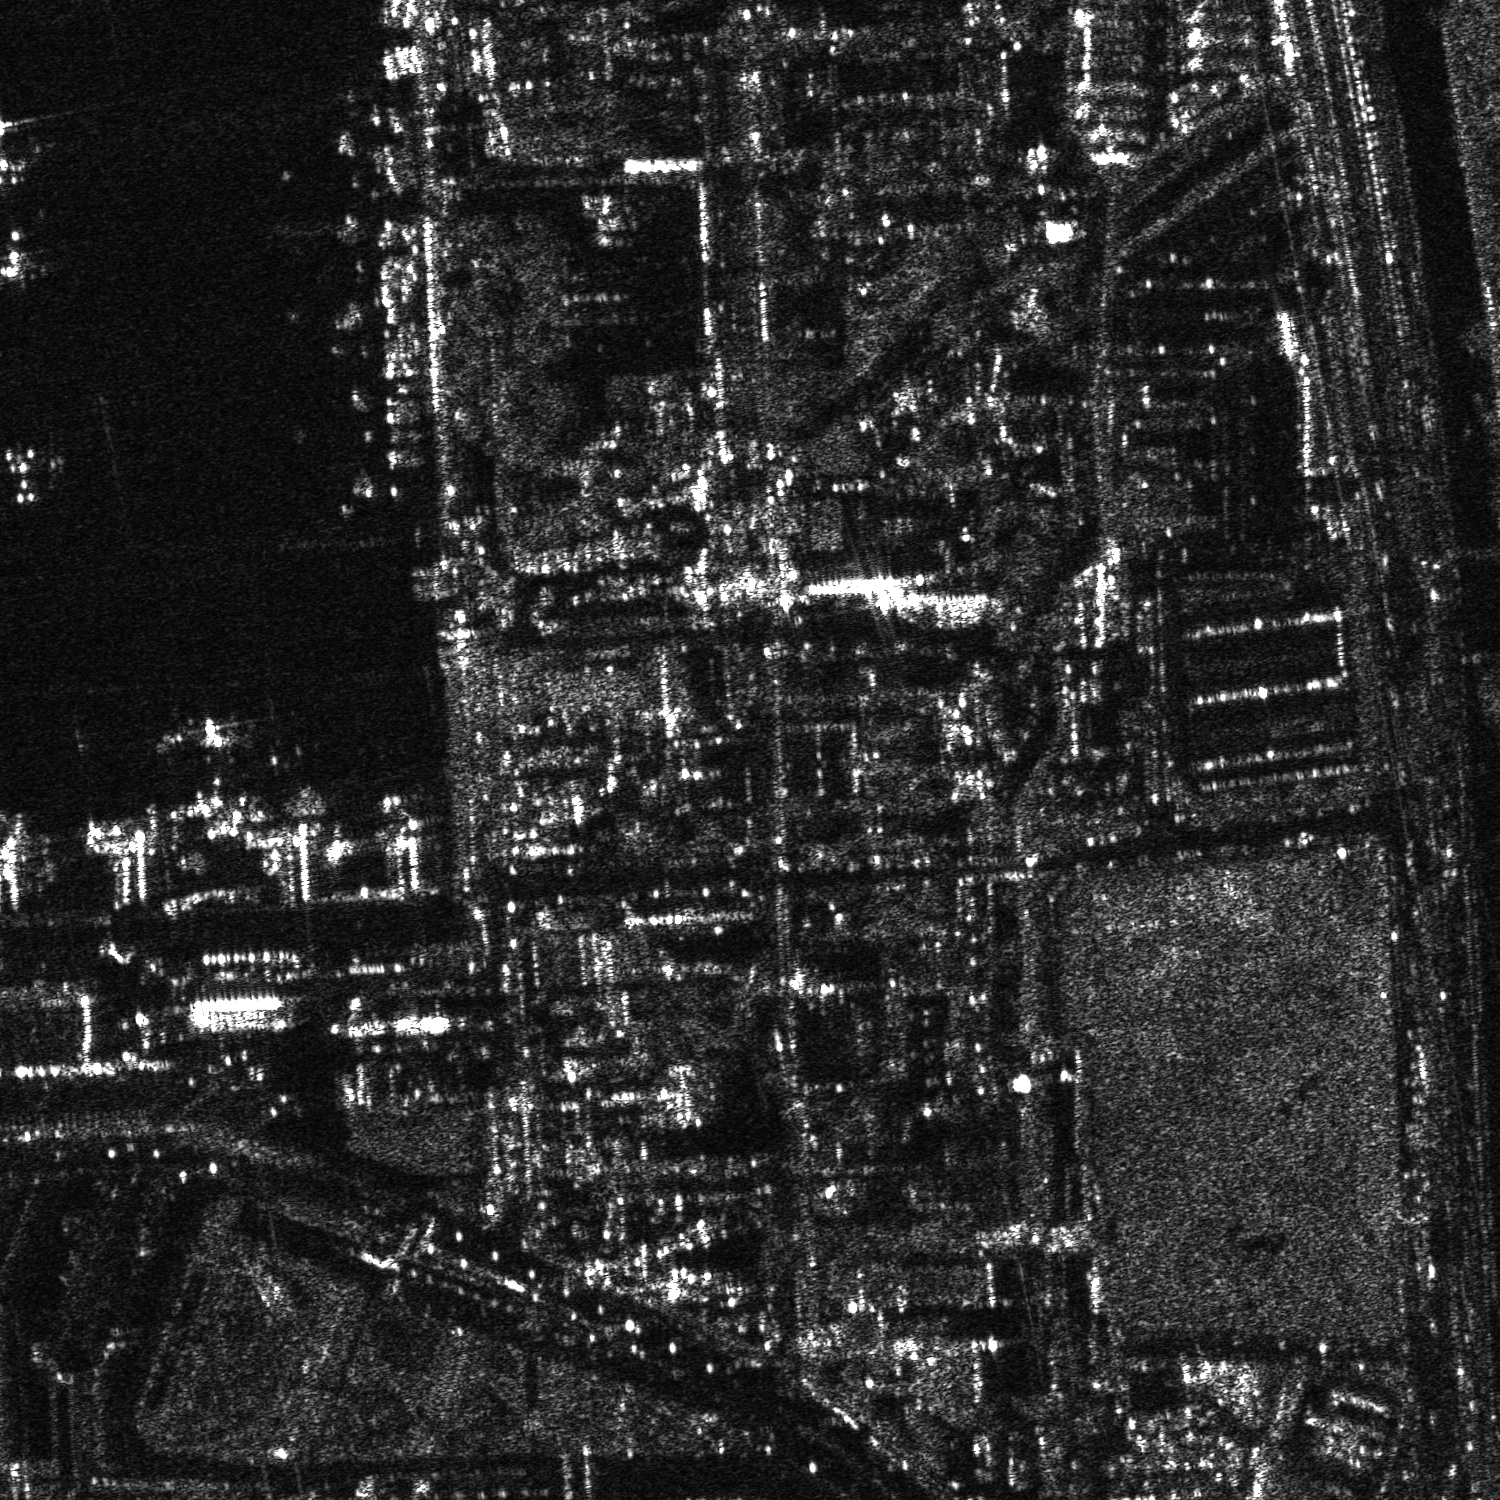A220: (1, 437, 63, 508)
Boeing787: (163, 702, 257, 761)
